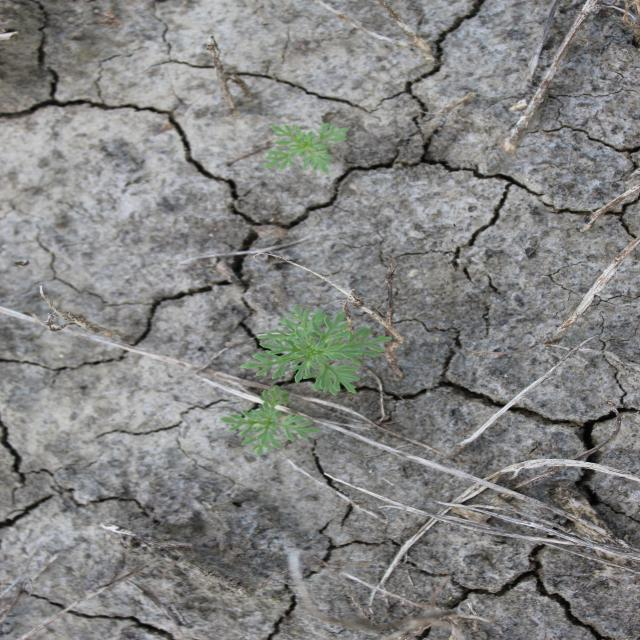Ragweed: (237, 304, 394, 396), (217, 384, 323, 458), (262, 121, 352, 176)
